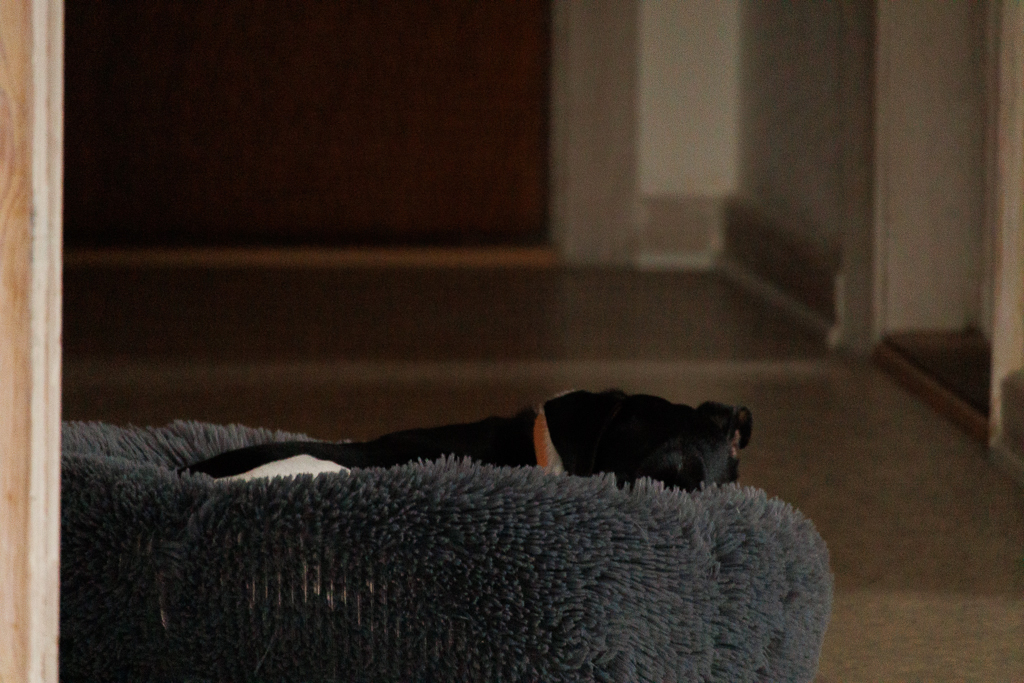Dog: (155, 382, 764, 502)
